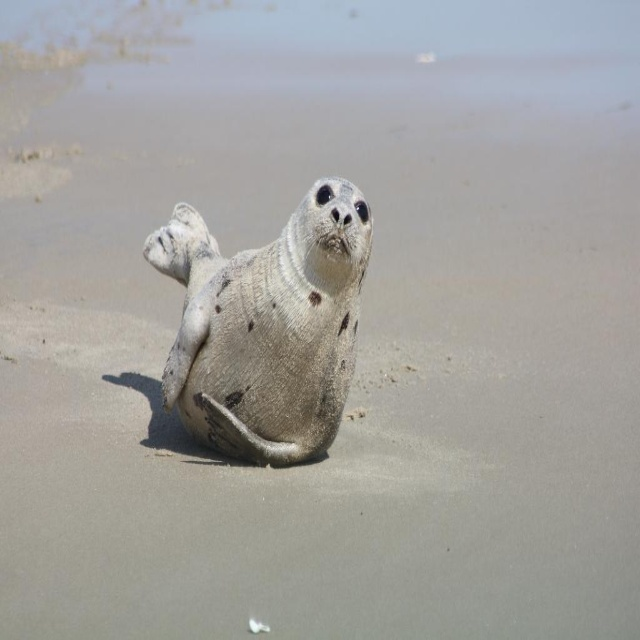Harbor seal: (128, 146, 373, 467)
